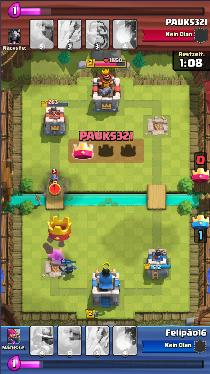ally_mini_pekka: (61, 262, 77, 275)
enemy_musketeer: (48, 175, 58, 187)
